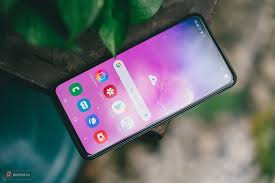samsung: (46, 12, 239, 160)
